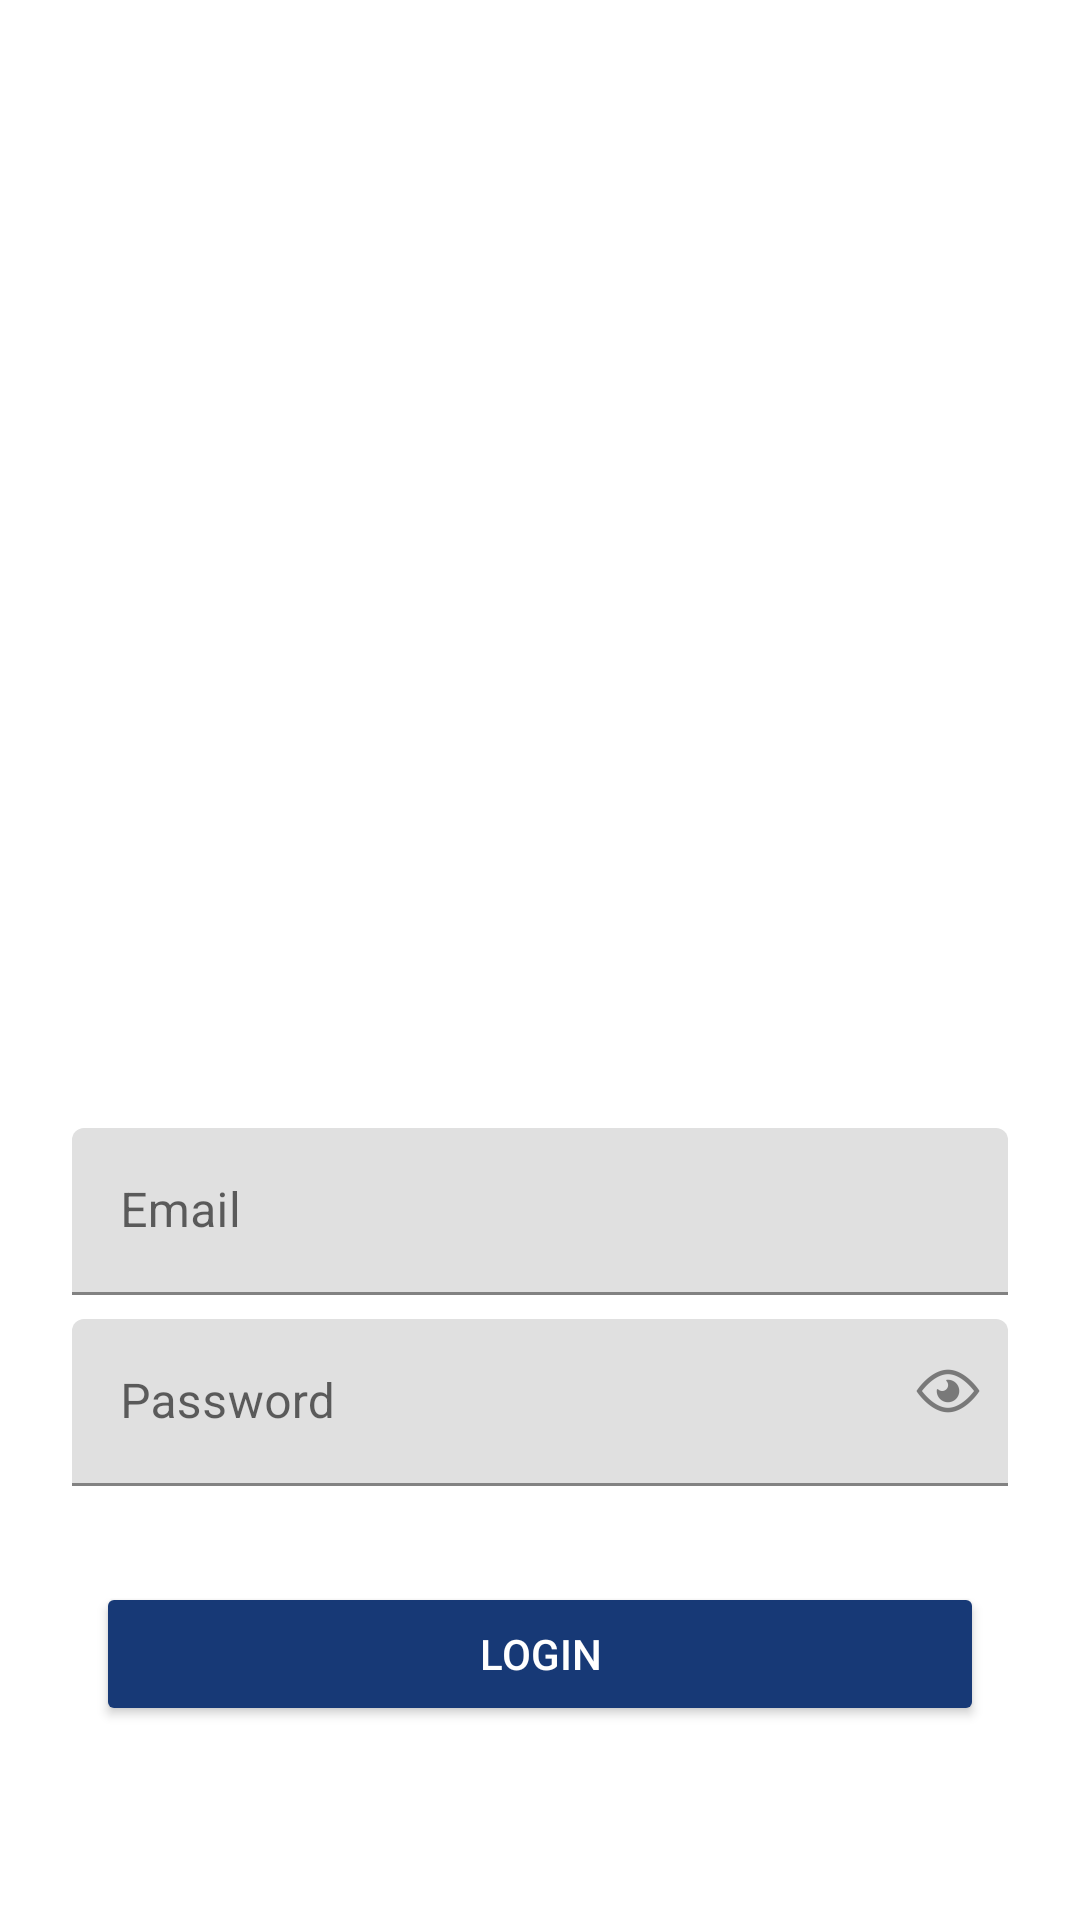

Named icons in this screenshot (1080w x 1920h) and their centers, (x=x, y=y):
eye: (x=948, y=1391)
